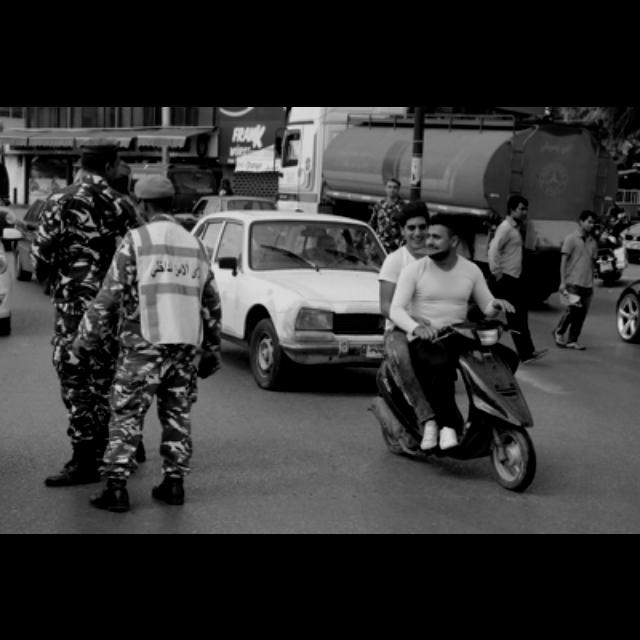Without Helmet: (396, 194, 432, 250), (424, 215, 462, 263), (504, 193, 528, 223), (577, 208, 595, 234), (384, 177, 400, 199)
